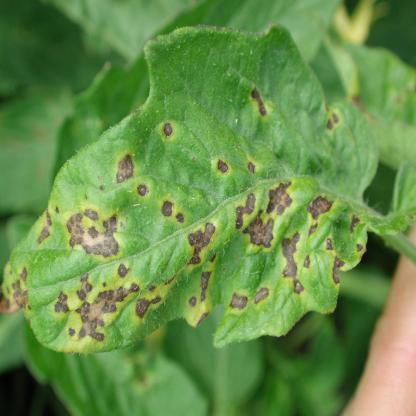Tomato leaf bacterial spot: (5, 25, 378, 369)
